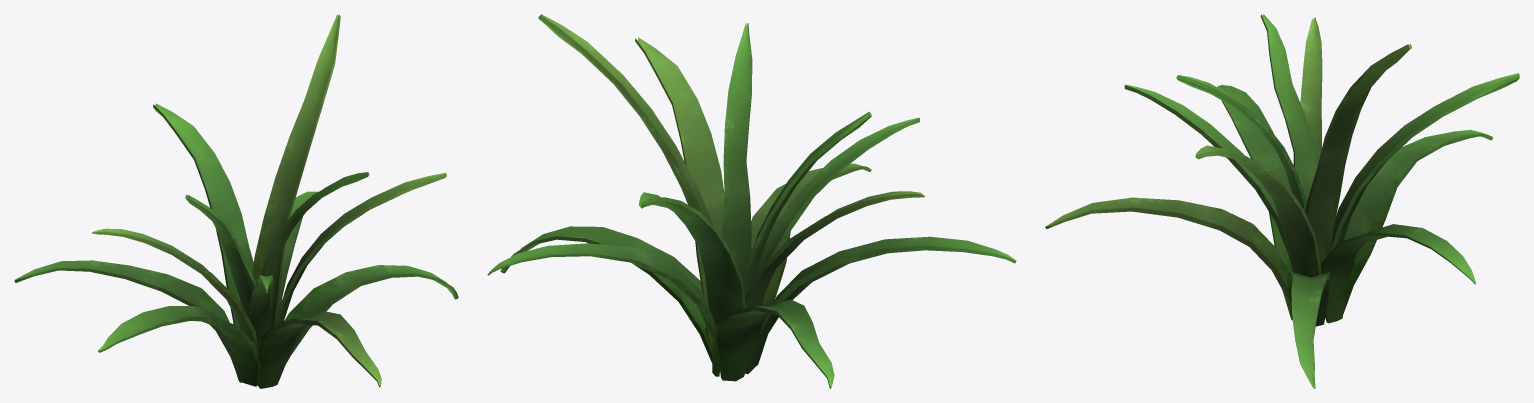
The model's file is bigGrassPlant1.fbx.
3 views of the same model, side by side, from view 1: azimuth 30°, elevation 25°; view 2: azimuth 150°, elevation 25°; view 3: azimuth 270°, elevation 25° (orthographic). The views are drawn at different scales.
Visible parts, largest first — view 1: grassPlant5; view 2: grassPlant5; view 3: grassPlant5.
Part boxes in pixels (x1=…): grassPlant5: x1=14, y1=14, x2=458, y2=388; grassPlant5: x1=487, y1=14, x2=1016, y2=388; grassPlant5: x1=1045, y1=14, x2=1519, y2=388.
Size of the model in its own units: 3.48 by 2.55 by 3.18.
